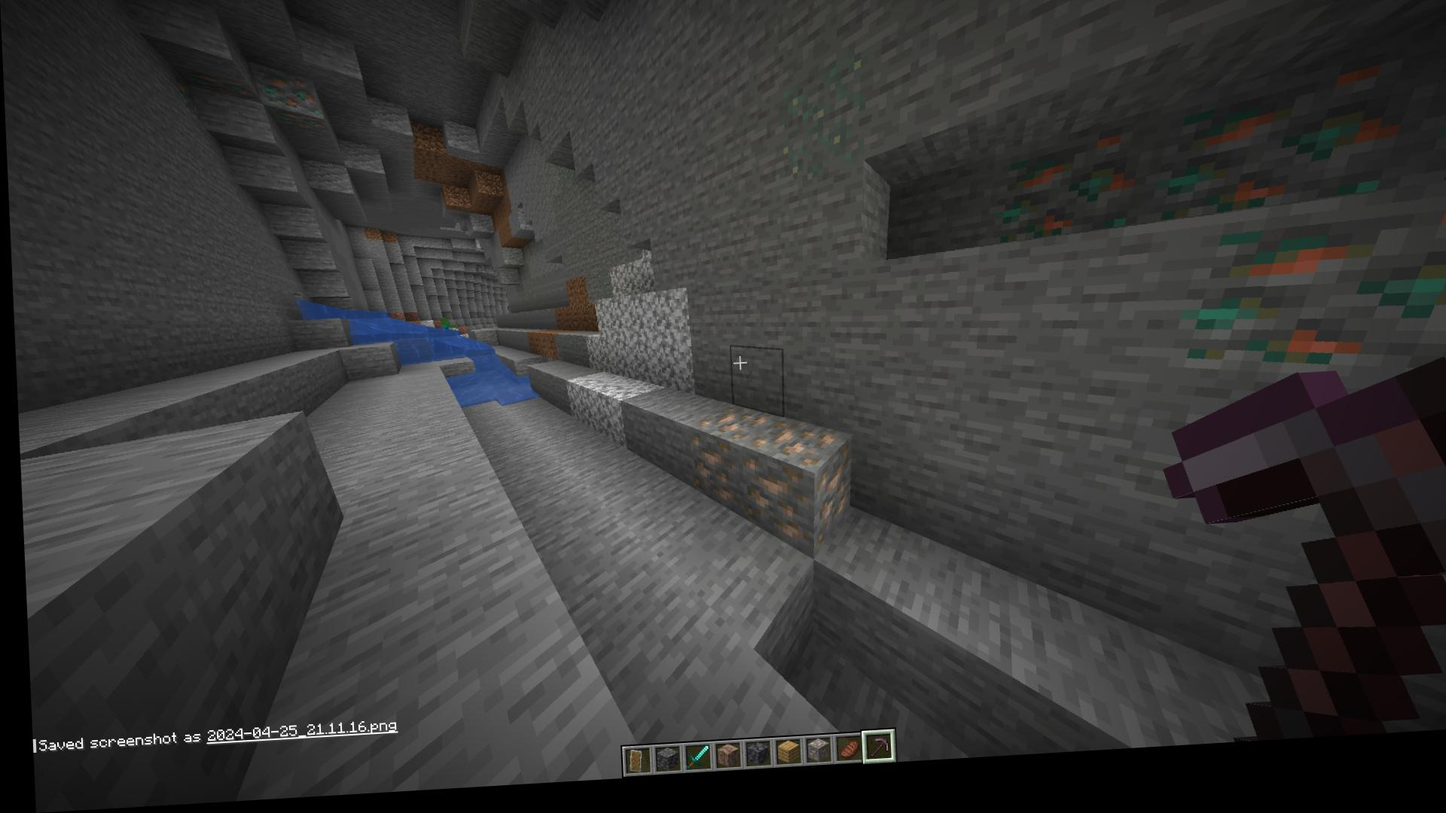iron ore: (733, 454, 805, 560), (749, 423, 841, 482), (806, 458, 851, 550), (688, 442, 737, 517), (690, 409, 761, 451)
